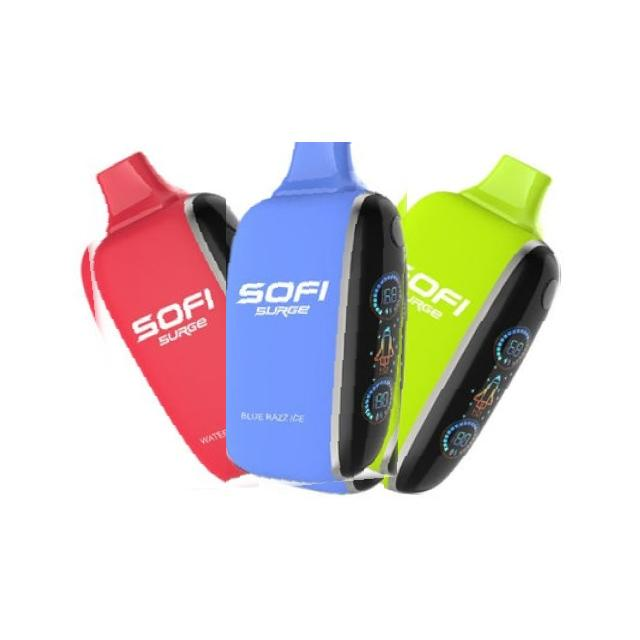Vapes: (226, 142, 410, 494), (78, 150, 259, 488), (384, 152, 562, 494)
